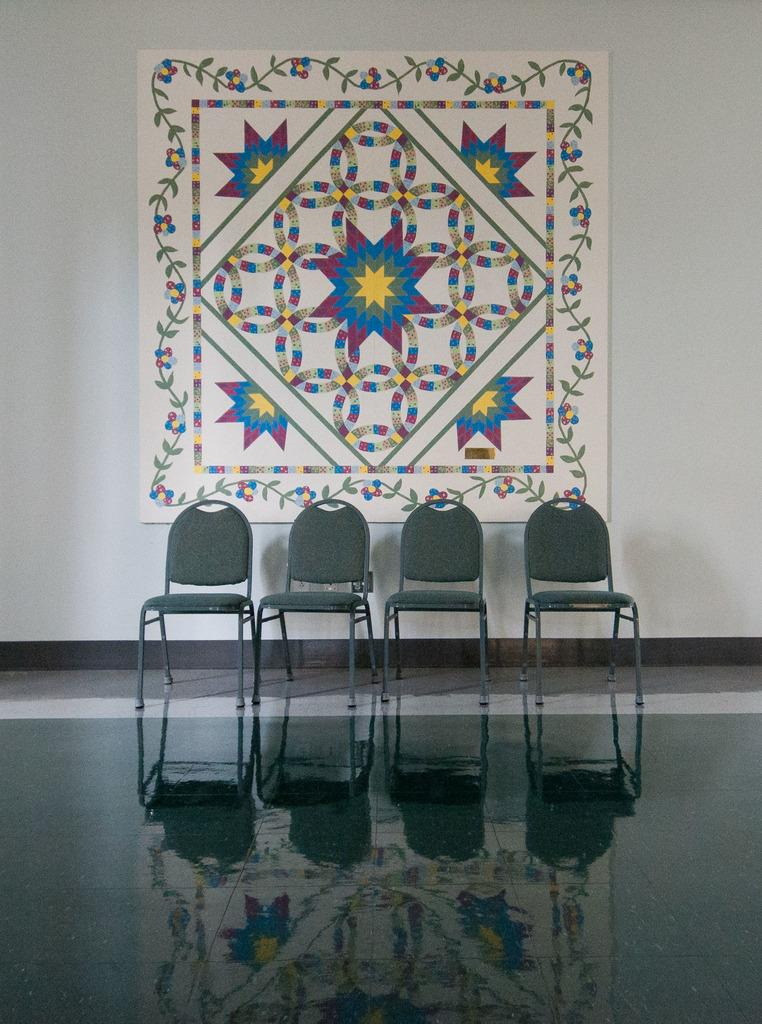Chair: (249, 497, 380, 709), (517, 492, 646, 707), (150, 485, 270, 692), (377, 497, 490, 700)
